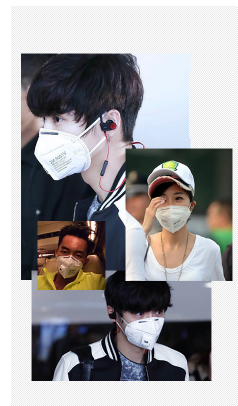face_mask: (37, 91, 89, 182), (121, 288, 159, 350), (155, 179, 189, 230), (56, 233, 83, 280)
